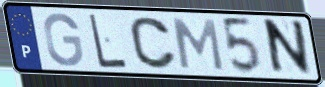5: (219, 15, 264, 78)
C: (128, 15, 179, 71)
G: (41, 11, 86, 68)
L: (87, 12, 130, 70)
M: (170, 17, 226, 73)
N: (264, 17, 314, 78)
